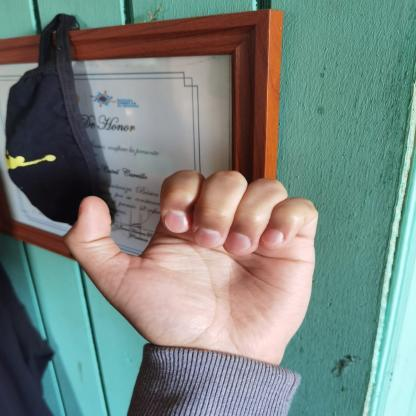E: (54, 158, 348, 363)
